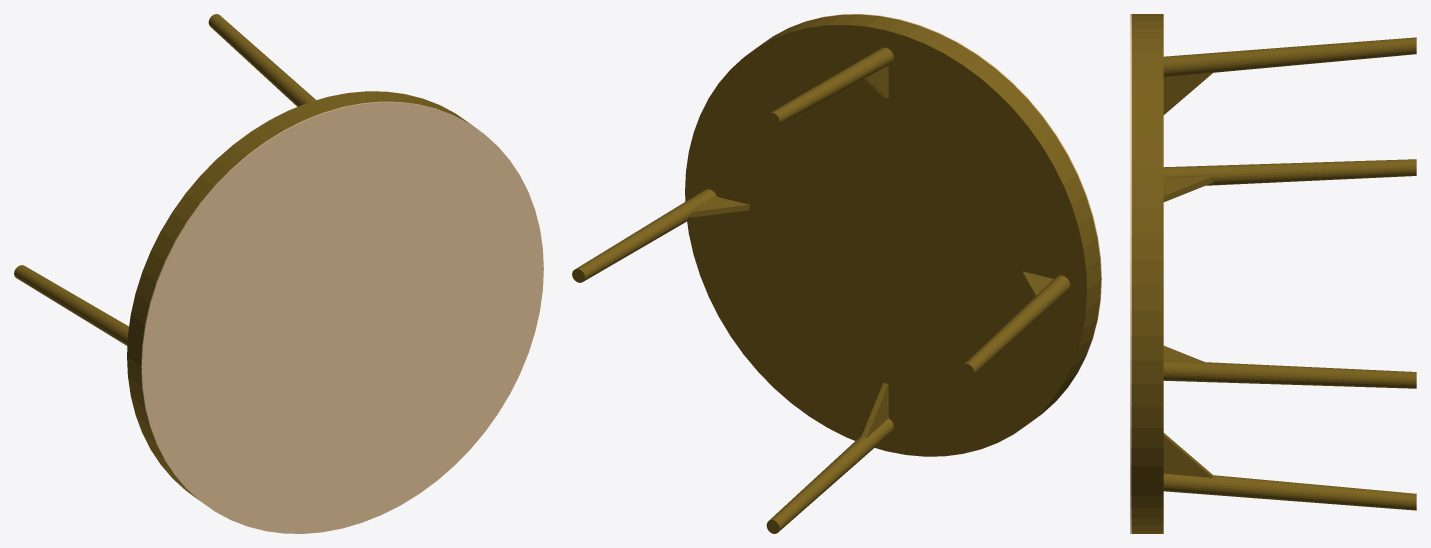
File: tinker.obj
The picture shows the model from 3 angles, left to right: view 1: azimuth 30°, elevation 25°; view 2: azimuth 150°, elevation 25°; view 3: azimuth 270°, elevation 25°; orthographic projection. The views are drawn at different scales.
Parts seen in each view (by area): view 1: group_0_14860437, group_0_8020250; view 2: group_0_8020250, group_0_14860437; view 3: group_0_8020250, group_0_14860437.
Part boxes in pixels (box(x1,y1,x2,y2)): group_0_14860437: box(141, 101, 543, 533); group_0_8020250: box(14, 14, 477, 499); group_0_8020250: box(572, 14, 1101, 533); group_0_14860437: box(782, 14, 1101, 410); group_0_8020250: box(1132, 14, 1416, 533); group_0_14860437: box(1130, 14, 1131, 533).
Size of the model in its own units: 100 by 100 by 55.
